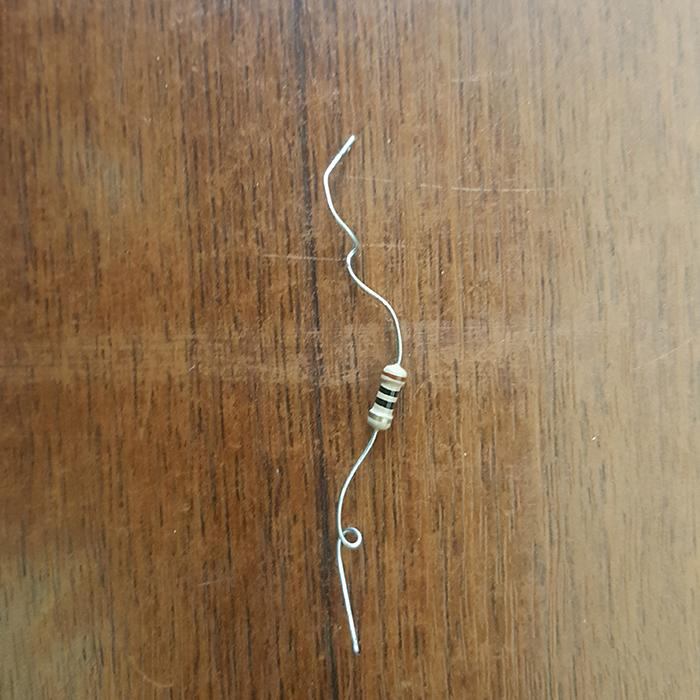resistor: (367, 362, 408, 430)
